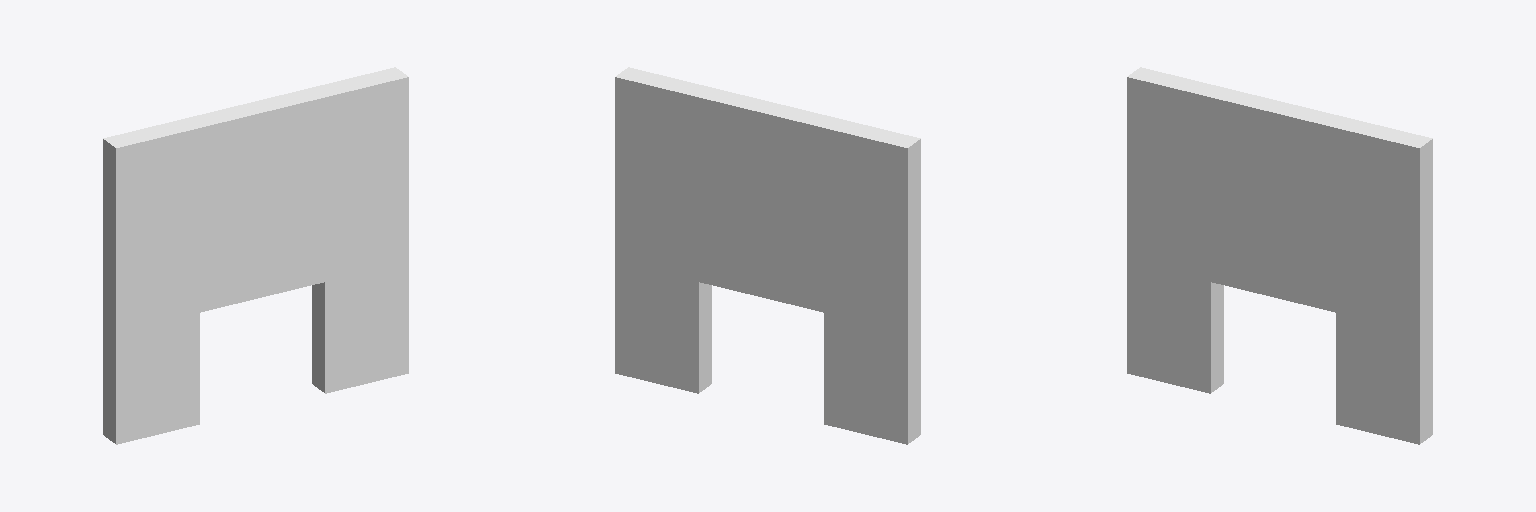
File: Vaissseau-2-Porte.obj
3 views of the same model, side by side, from view 1: azimuth 30°, elevation 25°; view 2: azimuth 150°, elevation 25°; view 3: azimuth 330°, elevation 25° (orthographic).
Visible parts, largest first — view 1: Porte; view 2: Porte; view 3: Porte.
Boxes of the visible parts, x1=… form: Porte: x1=103, y1=67, x2=408, y2=444; Porte: x1=615, y1=67, x2=920, y2=444; Porte: x1=1127, y1=67, x2=1432, y2=444.
Bounding box in the file's own units: 12.6 × 12.2 × 1.